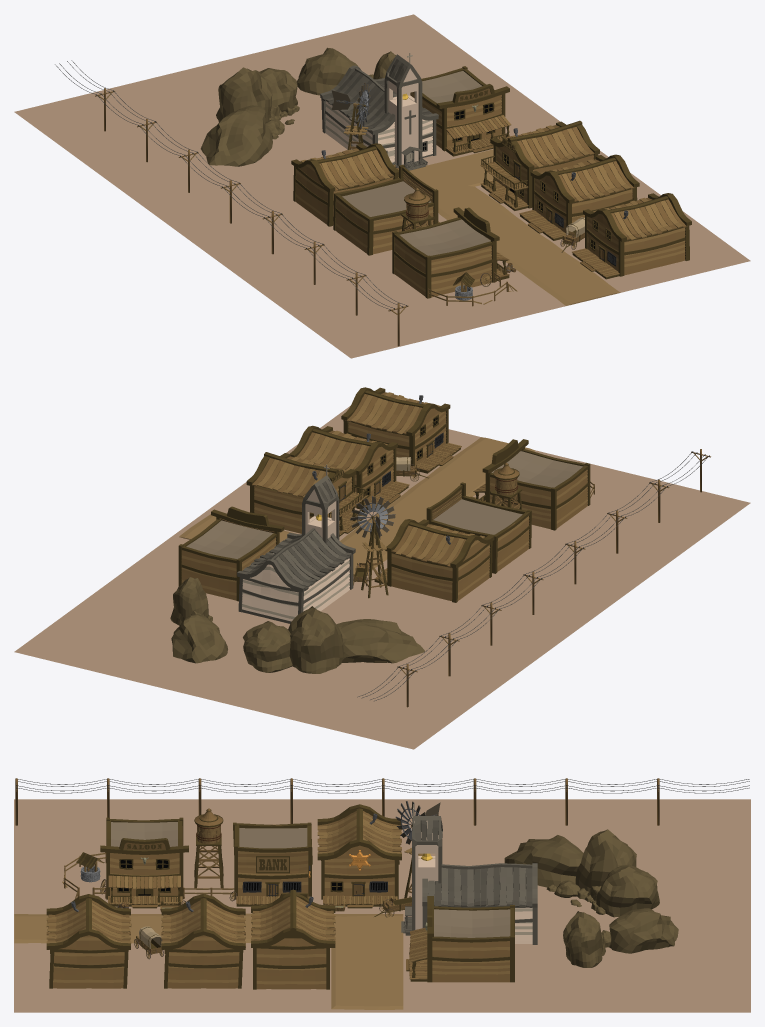
The model's file is western_city.glb.
The picture shows the model from 3 angles, top to bottom: view 1: azimuth 30°, elevation 25°; view 2: azimuth 150°, elevation 25°; view 3: azimuth 270°, elevation 25°; orthographic projection. The views are drawn at different scales.
Parts seen in each view (by area): view 1: Plane_4, Cube.218_20, Cube.008_1, Cube.009_81, Cube.004_2, Cube.007_37, Cube.003_36, Cube.010_38, Cube.217_19, Cube.112_3, Cube.014_41, Cube.013_40 (+3 smaller); view 2: Plane_4, Cube.008_1, Cube.112_3, Cube.009_81, Cube.010_38, Cube.004_2, Cube.003_36, Cube.218_20, Cube.007_37, Cube.217_19, Cube.013_40, Cube.014_41 (+6 smaller); view 3: Plane_4, Cube.218_20, Cube.008_1, Cube.010_38, Cube.112_3, Cube.003_36, Cube.009_81, Cube.007_37, Cube.004_2, Cube.217_19, Cube.014_41, Cube.027_54 (+14 smaller).
Part boxes in pixels (box(x1,y1,x2,y2)): Plane_4: box(14, 14, 750, 358); Cube.218_20: box(398, 149, 620, 305); Cube.008_1: box(320, 52, 438, 170); Cube.009_81: box(572, 193, 691, 279); Cube.004_2: box(392, 207, 509, 298); Cube.007_37: box(519, 154, 639, 240); Cube.003_36: box(480, 120, 599, 210); Cube.010_38: box(410, 66, 511, 156); Cube.217_19: box(333, 165, 439, 255); Cube.112_3: box(291, 143, 398, 226); Cube.014_41: box(200, 105, 272, 166); Cube.013_40: box(216, 67, 272, 122); Plane_4: box(14, 405, 750, 749); Cube.008_1: box(237, 464, 355, 623); Cube.112_3: box(374, 519, 494, 602); Cube.009_81: box(341, 387, 461, 473); Cube.010_38: box(178, 506, 284, 601); Cube.004_2: box(473, 439, 590, 530); Cube.003_36: box(246, 452, 367, 536); Cube.218_20: box(179, 437, 535, 576); Cube.007_37: box(290, 425, 409, 511); Cube.217_19: box(426, 482, 531, 573); Cube.013_40: box(288, 606, 343, 673); Cube.014_41: box(336, 619, 424, 663); Plane_4: box(14, 799, 750, 1012); Cube.218_20: box(14, 913, 403, 1009); Cube.008_1: box(401, 804, 537, 944); Cube.010_38: box(406, 896, 514, 982); Cube.112_3: box(317, 804, 401, 908); Cube.003_36: box(251, 889, 335, 989); Cube.009_81: box(46, 894, 131, 988); Cube.007_37: box(161, 894, 245, 988); Cube.004_2: box(100, 817, 188, 908); Cube.217_19: box(233, 822, 312, 906); Cube.014_41: box(504, 835, 583, 887); Cube.027_54: box(609, 908, 678, 953).
Size of the model in its own units: 55.07 by 19.55 by 80.39.
